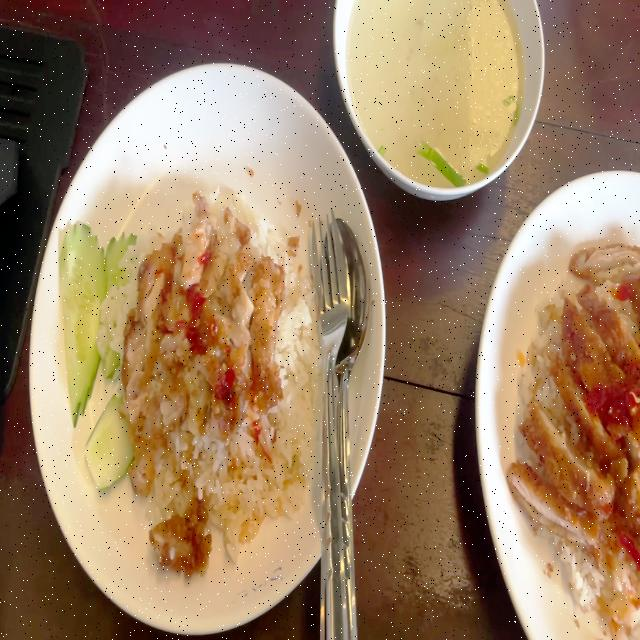chicken_rice: (61, 218, 317, 570), (504, 246, 640, 640)
cucumber: (57, 218, 137, 494)
fried_chicken: (505, 246, 640, 566), (125, 226, 278, 473), (145, 497, 214, 585)
